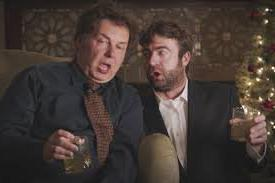Drunk: (142, 38, 181, 86), (92, 23, 126, 77)
